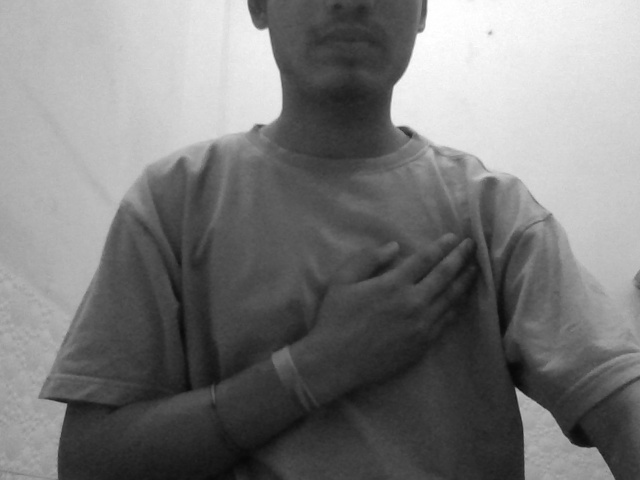Sorry: (286, 202, 541, 404)
